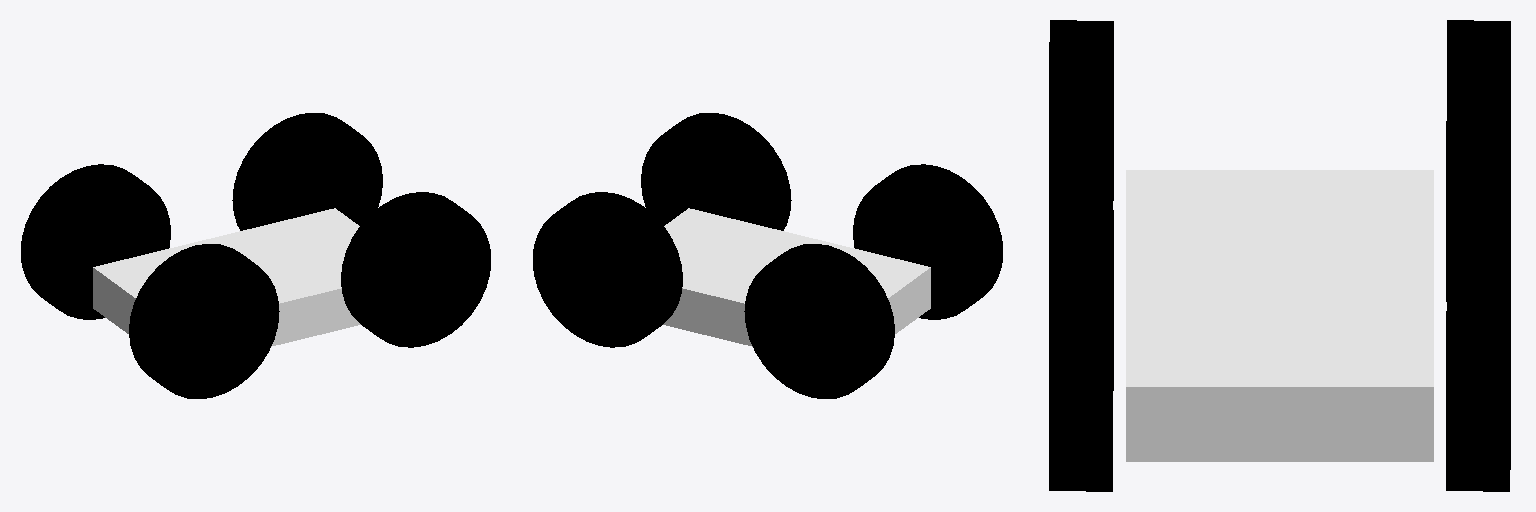
URDF robot description (diode_robot):
<?xml version="1.0" ?>
<robot name="diode_robot">

    <link name="base_link">
        <visual>
            <origin xyz=" 0 0 0.058" rpy="0 0 0" />
            <geometry>
                <box size="0.40 0.24 0.065"/>
            </geometry>
            <material name="white">
                <color rgba="1 1 1 1"/>
            </material>
        </visual>
    </link>   

    <joint name="left_wheel_joint" type="continuous">
        <origin xyz="-0.175 0.155 0.11" rpy="1.57 0 0"/>
        <parent link="base_link"/>
        <child link="left_wheel_link"/>
        <axis xyz="0 1 0"/>
    </joint>

    <link name="left_wheel_link">
        <visual>
            <origin xyz="0 0 0" rpy="0 0 0" />
            <geometry>
                <cylinder radius="0.11" length = "0.05"/>
            </geometry>
            <material name="black">
                <color rgba="0 0 0 1"/>
            </material>
        </visual>
    </link>

    <joint name="right_wheel_joint" type="continuous">
        <origin xyz="-0.175 -0.155 0.11" rpy="1.57 0 0"/>
        <parent link="base_link"/>
        <child link="right_wheel_link"/>
        <axis xyz="0 1 0"/>
    </joint>

    <link name="right_wheel_link">
        <visual>
            <origin xyz="0 0 0" rpy="0 0 0" />
            <geometry>
                <cylinder radius="0.11" length = "0.05"/>
            </geometry>
            <material name="black">
                <color rgba="0 0 0 1"/>
            </material>
        </visual>
    </link>

      <joint name="left_front_joint" type="continuous">
        <origin xyz="0.175 0.155 0.11" rpy="1.57 0 0"/>
        <parent link="base_link"/>
        <child link="left_front_link"/>
        <axis xyz="0 1 0"/>
    </joint>

    <link name="left_front_link">
        <visual>
            <origin xyz="0 0 0" rpy="0 0 0" />
            <geometry>
                <cylinder radius="0.11" length = "0.05"/>
            </geometry>
            <material name="black">
                <color rgba="0 0 0 1"/>
            </material>
        </visual>
    </link>

    <joint name="right_front_joint" type="continuous">
        <origin xyz="0.175 -0.155 0.11" rpy="1.57 0 0"/>
        <parent link="base_link"/>
        <child link="right_front_link"/>
        <axis xyz="0 1 0"/>
    </joint>

    <link name="right_front_link">
        <visual>
            <origin xyz="0 0 0" rpy="0 0 0" />
            <geometry>
                <cylinder radius="0.11" length = "0.05"/>
            </geometry>
            <material name="black">
                <color rgba="0 0 0 1"/>
            </material>
        </visual>
    </link>


</robot>

--- Facts derived from the render (not from the file) ---
The picture shows the robot from 3 angles, left to right: view 1: azimuth 30°, elevation 25°; view 2: azimuth 150°, elevation 25°; view 3: azimuth 270°, elevation 25°; orthographic projection.
Model diode_robot with 5 links and 4 joints (4 continuous), rooted at base_link, posed every joint at zero.
Links seen in each view (by area): view 1: right_front_link, right_wheel_link, left_wheel_link, base_link, left_front_link; view 2: left_front_link, left_wheel_link, right_wheel_link, base_link, right_front_link; view 3: base_link, right_front_link, left_front_link, left_wheel_link, right_wheel_link.
Link boxes in pixels (bbox=[...]): right_front_link: bbox=[341, 192, 490, 347]; right_wheel_link: bbox=[129, 244, 279, 398]; left_wheel_link: bbox=[21, 164, 170, 319]; base_link: bbox=[93, 208, 360, 346]; left_front_link: bbox=[232, 113, 382, 230]; left_front_link: bbox=[533, 192, 682, 347]; left_wheel_link: bbox=[744, 244, 894, 398]; right_wheel_link: bbox=[853, 164, 1002, 319]; base_link: bbox=[663, 208, 930, 346]; right_front_link: bbox=[641, 113, 791, 230]; base_link: bbox=[1126, 170, 1433, 461]; right_front_link: bbox=[1049, 210, 1113, 491]; left_front_link: bbox=[1446, 210, 1510, 491]; left_wheel_link: bbox=[1446, 20, 1510, 301]; right_wheel_link: bbox=[1049, 20, 1113, 230].
Size in the robot's own frame: 0.57 by 0.3602 by 0.22 metres.
Geometry: primitives only (box / cylinder / sphere), no mesh files.